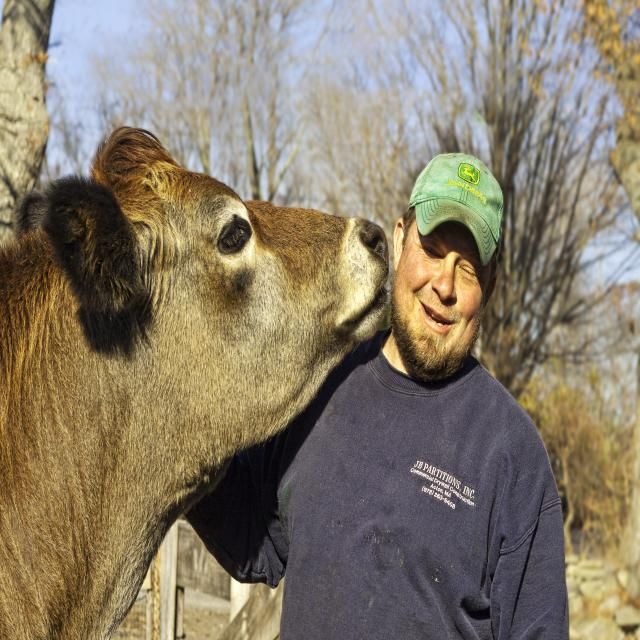cow: (0, 128, 388, 639)
